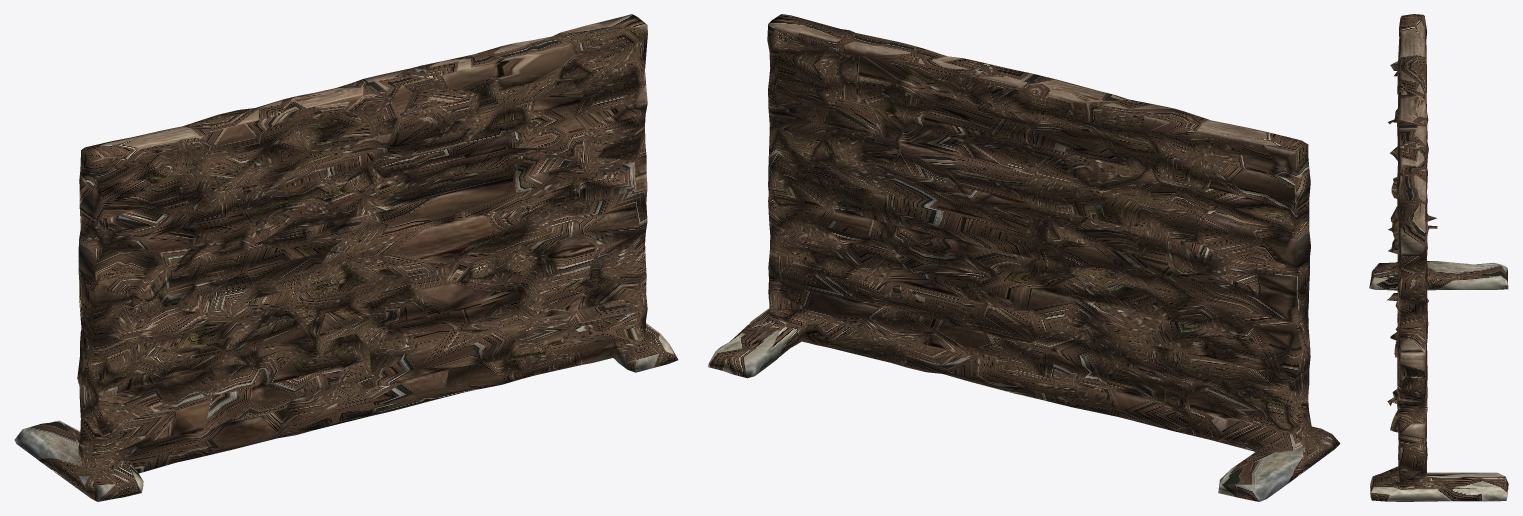
The model's file is wood_wall_lowpoly.glb.
The picture shows the model from 3 angles, left to right: view 1: azimuth 30°, elevation 25°; view 2: azimuth 150°, elevation 25°; view 3: azimuth 270°, elevation 25°; orthographic projection. The views are drawn at different scales.
Parts seen in each view (by area): view 1: tripo_node_c641c83d-d66c-499f-ae8c-dcc79d8879a9; view 2: tripo_node_c641c83d-d66c-499f-ae8c-dcc79d8879a9; view 3: tripo_node_c641c83d-d66c-499f-ae8c-dcc79d8879a9.
Boxes of the visible parts, x1,y1,x2,y2 form: tripo_node_c641c83d-d66c-499f-ae8c-dcc79d8879a9: [14, 14, 678, 501]; tripo_node_c641c83d-d66c-499f-ae8c-dcc79d8879a9: [707, 14, 1340, 501]; tripo_node_c641c83d-d66c-499f-ae8c-dcc79d8879a9: [1369, 14, 1508, 501].
Size of the model in its own units: 0.9777 by 0.5238 by 0.2496.
1 material, 1 textured.
